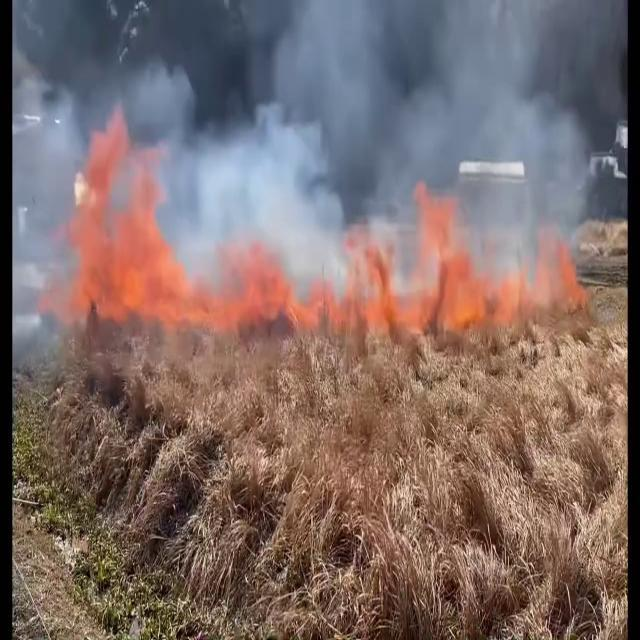Fire: (258, 225, 600, 378), (42, 128, 222, 354)
Smoke: (30, 0, 606, 396)
